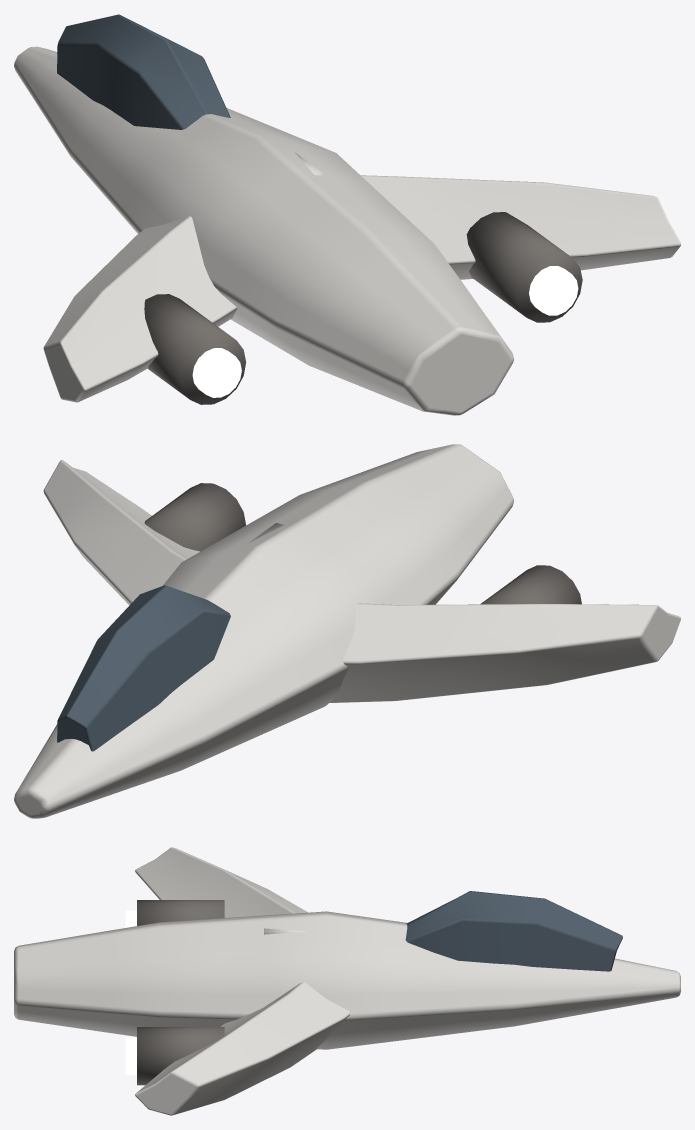
File: ship.glb
The picture shows the model from 3 angles, top to bottom: view 1: azimuth 30°, elevation 25°; view 2: azimuth 150°, elevation 25°; view 3: azimuth 270°, elevation 25°; orthographic projection. The views are drawn at different scales.
Visible parts, largest first — view 1: Ship; view 2: Ship; view 3: Ship.
Boxes of the visible parts, left/top/right/bottom form: Ship: left=14, top=14, right=680, bottom=415; Ship: left=14, top=444, right=680, bottom=818; Ship: left=14, top=847, right=680, bottom=1115.
Bounding box in the file's own units: 2.56 × 0.8027 × 3.2.
